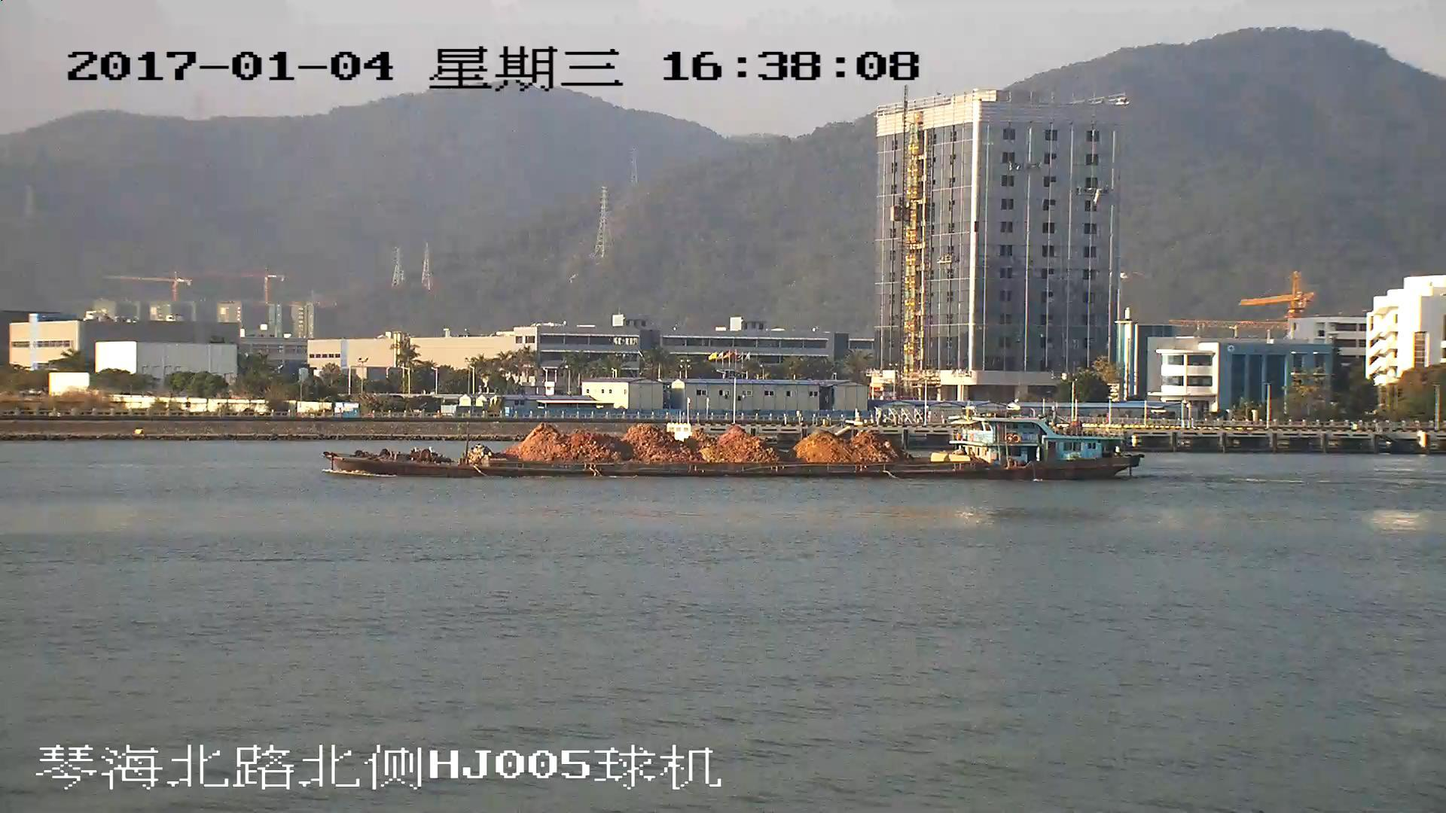ore carrier: (331, 414, 1139, 479)
